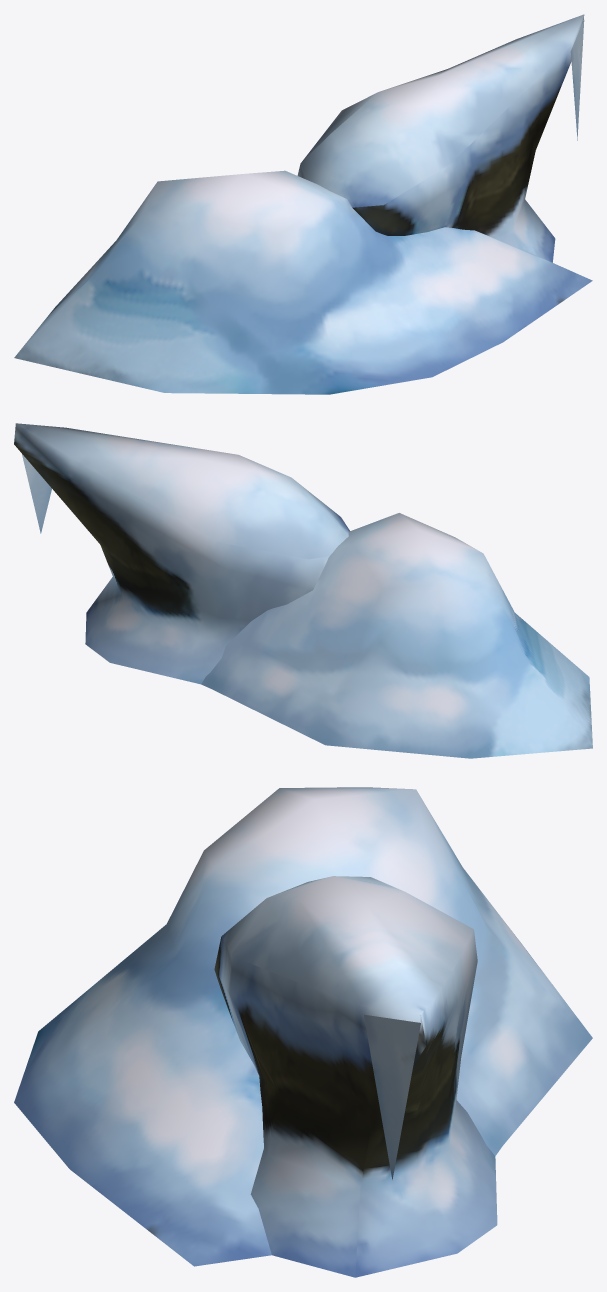
Rendered from ShiTou09.FBX.
3 renders of one model, top to bottom at view 1: azimuth 30°, elevation 25°; view 2: azimuth 150°, elevation 25°; view 3: azimuth 270°, elevation 25°, orthographic. The views are drawn at different scales.
Parts seen in each view (by area): view 1: ShiTou09; view 2: ShiTou09; view 3: ShiTou09.
Boxes of the visible parts, bbox=[...] form: ShiTou09: bbox=[14, 14, 592, 394]; ShiTou09: bbox=[14, 423, 592, 758]; ShiTou09: bbox=[14, 787, 592, 1277].
Size of the model in its own units: 239 by 77.25 by 135.
